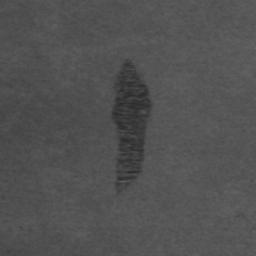Secondary rust skin: (110, 60, 153, 196)
